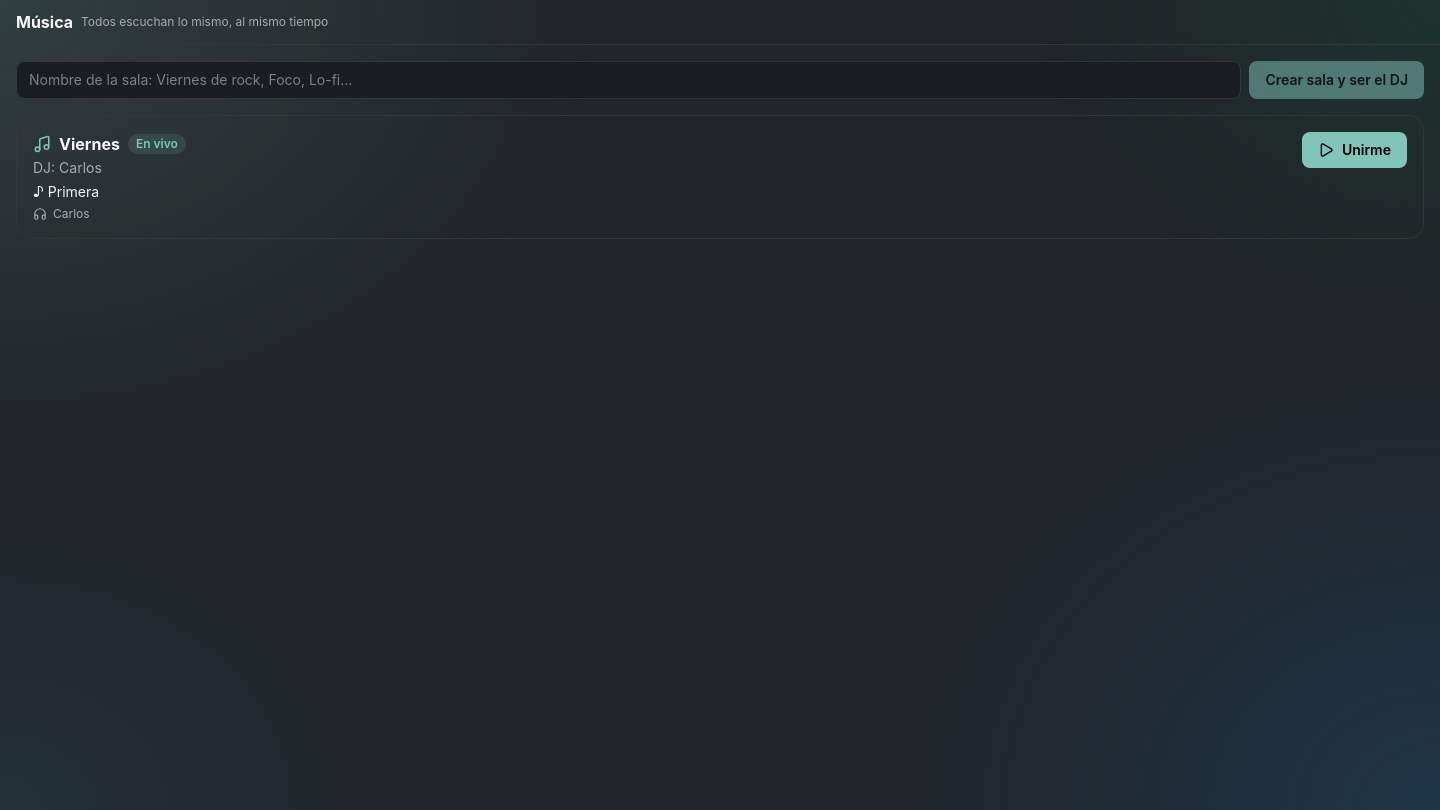
Test: music rooms › shows who comes in, lets anyone react, and floats everyone's reactions over the player
Later steps or results of the test are not shown.
Click the button "Unirme" at (1354, 150), box 1302,132 -> 1407,168
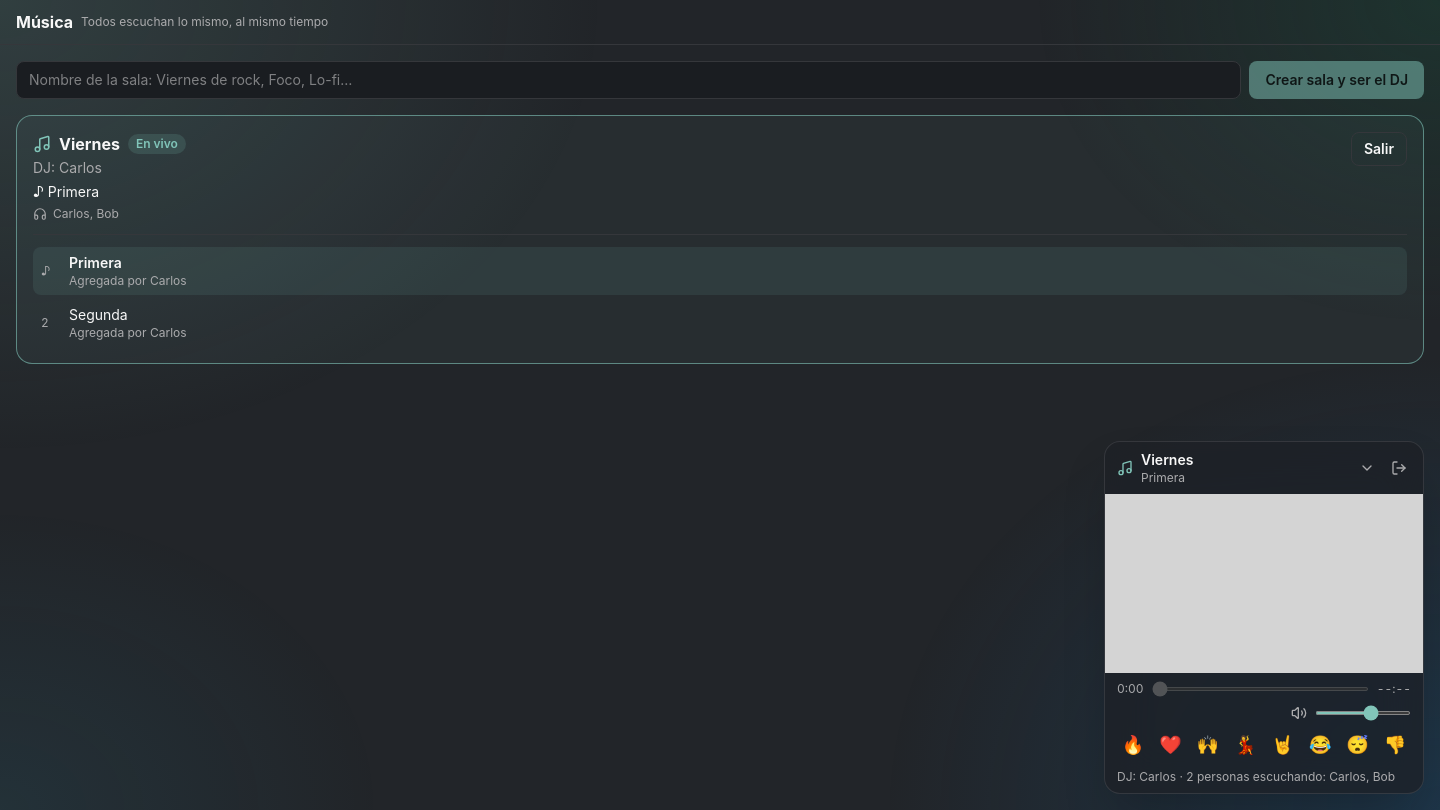
Result: the text "DJ: Carlos · 2 personas escuchando: Carlos, Bob" is shown at 1117,769 -> 1411,785
